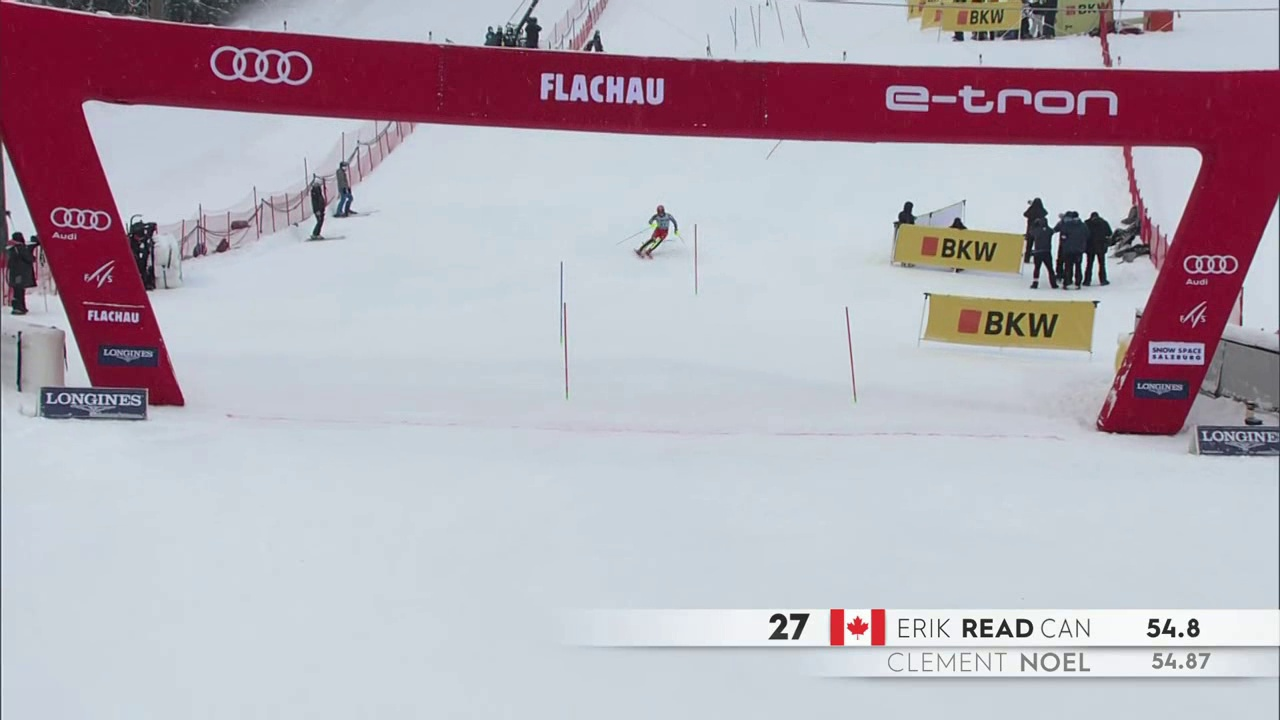audi: (208, 45, 313, 89), (1183, 253, 1243, 281)
etron: (896, 86, 1115, 123)
flachau: (543, 68, 666, 114)
longines: (1200, 428, 1279, 459)
